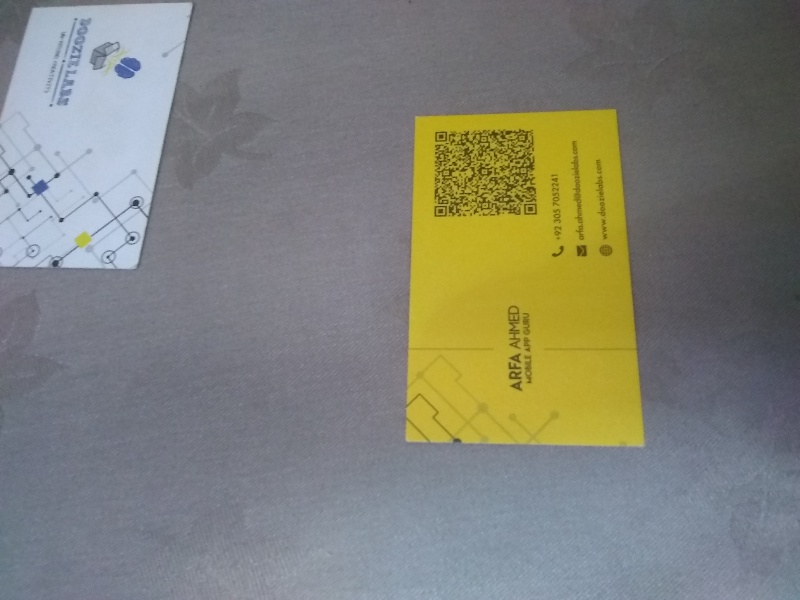front: (400, 107, 645, 450)
